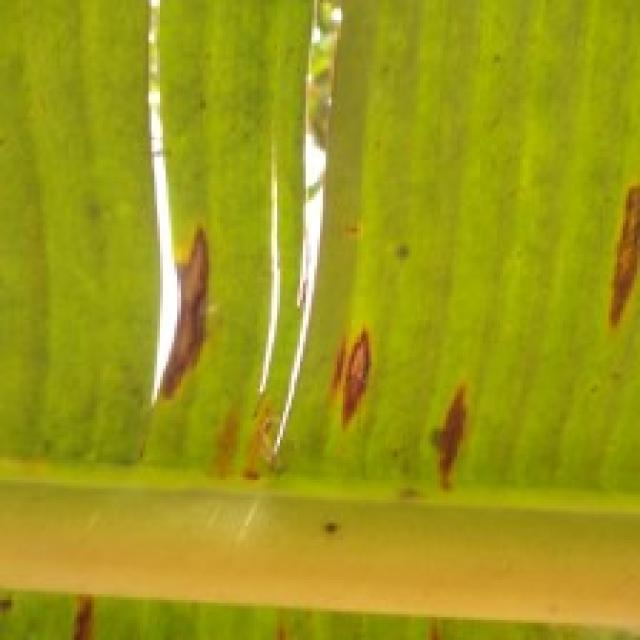Early_leaf_spot: (139, 206, 228, 430), (200, 330, 295, 487), (313, 302, 383, 428), (588, 162, 640, 328), (411, 356, 483, 475), (48, 568, 97, 640), (248, 594, 312, 640), (325, 213, 377, 254), (0, 572, 27, 638), (414, 608, 445, 640)
